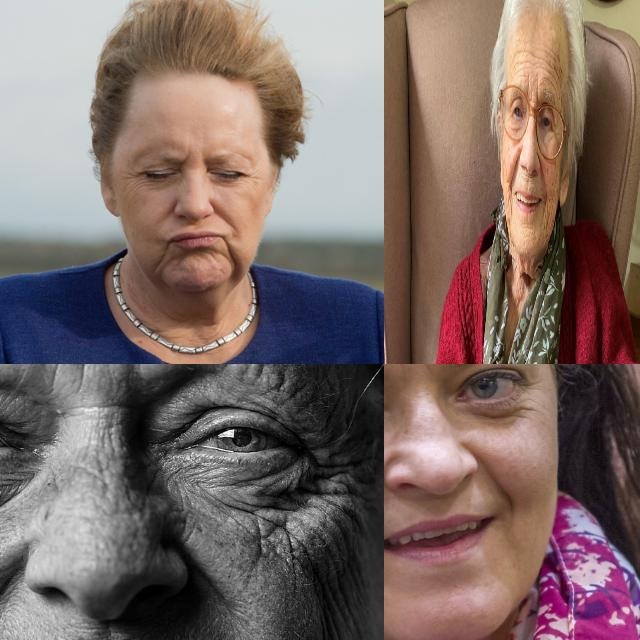bunny_line: (97, 454, 131, 506)
chin: (518, 218, 536, 235)
crows_feet: (311, 443, 355, 501), (122, 168, 148, 190), (243, 169, 260, 187), (526, 378, 546, 392)
forehead: (543, 44, 563, 83), (512, 46, 529, 77)
frown_line: (389, 364, 440, 384), (63, 364, 96, 388), (526, 80, 532, 106), (534, 77, 540, 101)
gummy_smile: (471, 449, 515, 508), (190, 552, 238, 606), (0, 559, 25, 640), (160, 198, 180, 226), (210, 202, 232, 224), (537, 153, 547, 191), (510, 153, 520, 185)
masseter: (306, 564, 352, 634), (552, 184, 557, 206)
sad_smile: (222, 230, 242, 270), (156, 240, 172, 274), (541, 198, 549, 235), (506, 192, 513, 231)
